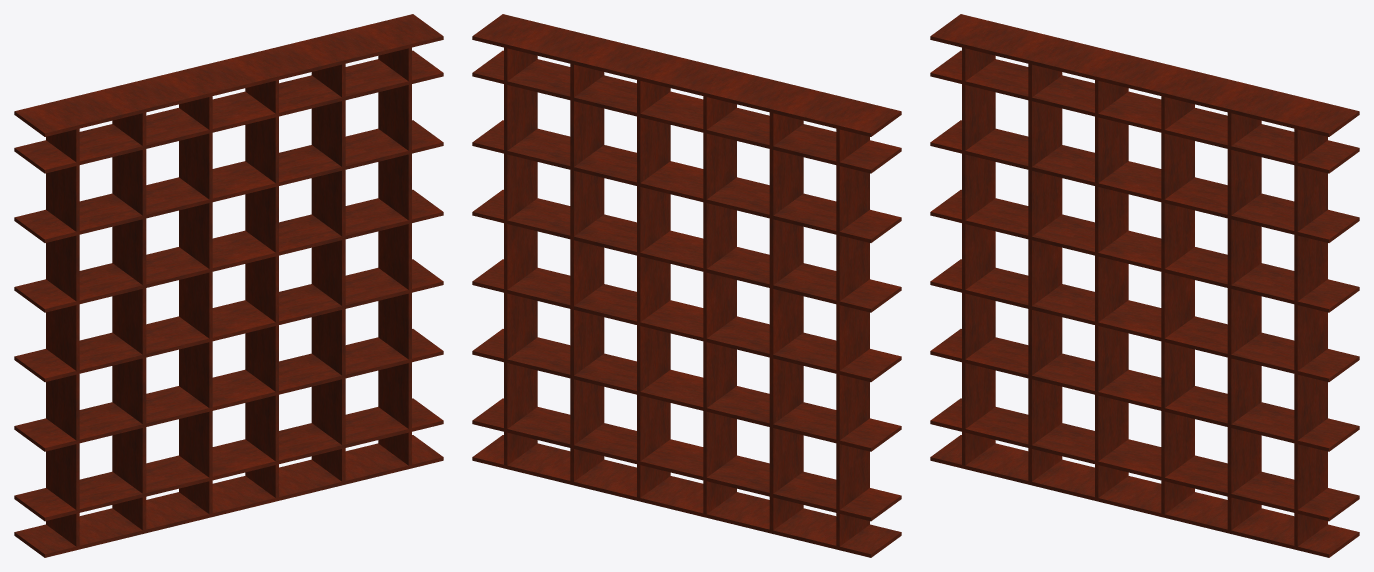
3 renders of one model, left to right at view 1: azimuth 30°, elevation 25°; view 2: azimuth 150°, elevation 25°; view 3: azimuth 330°, elevation 25°, orthographic.
Visible parts, largest first — view 1: mesh2_mesh2-geometry_6, mesh2_mesh2-geometry_2, mesh1_mesh1-geometry_21, mesh1_mesh1-geometry_63, mesh1_mesh1-geometry, mesh1_mesh1-geometry_69, mesh1_mesh1-geometry_3, mesh1_mesh1-geometry_15, mesh1_mesh1-geometry_42, mesh1_mesh1-geometry_66, mesh2_mesh2-geometry_4, mesh1_mesh1-geometry_9 (+16 smaller); view 2: mesh2_mesh2-geometry_6, mesh2_mesh2-geometry_2, mesh1_mesh1-geometry_21, mesh1_mesh1-geometry_63, mesh1_mesh1-geometry, mesh1_mesh1-geometry_69, mesh1_mesh1-geometry_3, mesh1_mesh1-geometry_15, mesh2_mesh2-geometry_4, mesh1_mesh1-geometry_42, mesh1_mesh1-geometry_66, mesh1_mesh1-geometry_48 (+16 smaller); view 3: mesh2_mesh2-geometry_2, mesh2_mesh2-geometry_6, mesh1_mesh1-geometry_63, mesh1_mesh1-geometry_21, mesh1_mesh1-geometry_15, mesh1_mesh1-geometry_3, mesh1_mesh1-geometry_69, mesh1_mesh1-geometry, mesh1_mesh1-geometry_45, mesh1_mesh1-geometry_60, mesh2_mesh2-geometry, mesh1_mesh1-geometry_30 (+16 smaller).
Part boxes in pixels (<box>): mesh2_mesh2-geometry_6: <box>14,62,244,136</box>; mesh2_mesh2-geometry_2: <box>214,14,443,88</box>; mesh1_mesh1-geometry_21: <box>112,300,146,530</box>; mesh1_mesh1-geometry_63: <box>311,251,345,481</box>; mesh1_mesh1-geometry: <box>179,284,212,514</box>; mesh1_mesh1-geometry_69: <box>46,316,79,546</box>; mesh1_mesh1-geometry_3: <box>378,235,411,465</box>; mesh1_mesh1-geometry_15: <box>245,267,278,497</box>; mesh1_mesh1-geometry_42: <box>14,99,244,173</box>; mesh1_mesh1-geometry_66: <box>14,169,244,242</box>; mesh2_mesh2-geometry_4: <box>14,483,244,557</box>; mesh1_mesh1-geometry_9: <box>14,447,244,521</box>; mesh2_mesh2-geometry_6: <box>671,62,901,136</box>; mesh2_mesh2-geometry_2: <box>472,14,701,88</box>; mesh1_mesh1-geometry_21: <box>769,300,803,530</box>; mesh1_mesh1-geometry_63: <box>570,251,604,481</box>; mesh1_mesh1-geometry: <box>703,284,736,514</box>; mesh1_mesh1-geometry_69: <box>836,316,869,546</box>; mesh1_mesh1-geometry_3: <box>504,235,537,465</box>; mesh1_mesh1-geometry_15: <box>637,267,670,497</box>; mesh2_mesh2-geometry_4: <box>671,483,901,557</box>; mesh1_mesh1-geometry_42: <box>671,99,901,173</box>; mesh1_mesh1-geometry_66: <box>671,169,901,242</box>; mesh1_mesh1-geometry_48: <box>671,238,901,312</box>; mesh2_mesh2-geometry_2: <box>1129,62,1359,136</box>; mesh2_mesh2-geometry_6: <box>930,14,1159,88</box>; mesh1_mesh1-geometry_63: <box>1227,300,1261,530</box>; mesh1_mesh1-geometry_21: <box>1028,251,1062,481</box>; mesh1_mesh1-geometry_15: <box>1161,284,1194,514</box>; mesh1_mesh1-geometry_3: <box>1294,316,1327,546</box>; mesh1_mesh1-geometry_69: <box>962,235,995,465</box>; mesh1_mesh1-geometry: <box>1095,267,1128,497</box>; mesh1_mesh1-geometry_45: <box>1129,99,1359,173</box>; mesh1_mesh1-geometry_60: <box>1129,169,1359,242</box>; mesh2_mesh2-geometry: <box>1129,483,1359,557</box>; mesh1_mesh1-geometry_30: <box>1129,238,1359,312</box>.
Bounding box in the file's own units: 0.698 × 0.7101 × 0.0921.
Materials: 3 (1 with a texture image).
